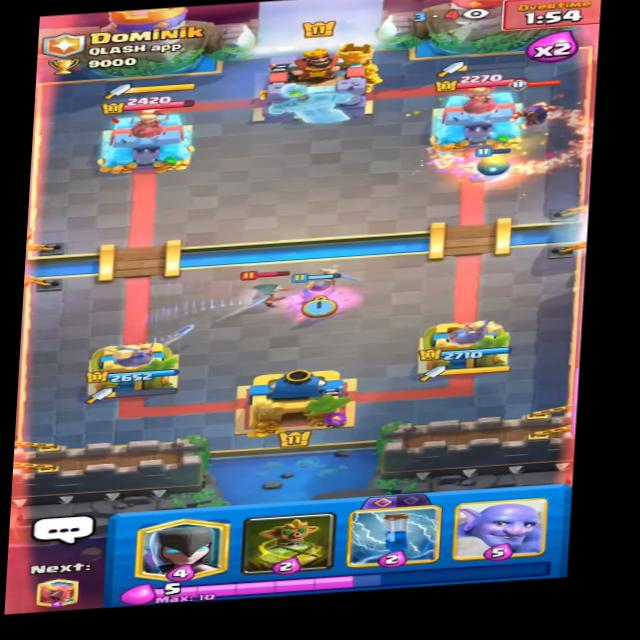bandit: (238, 268, 295, 310)
evo-wizard: (502, 73, 568, 131)
